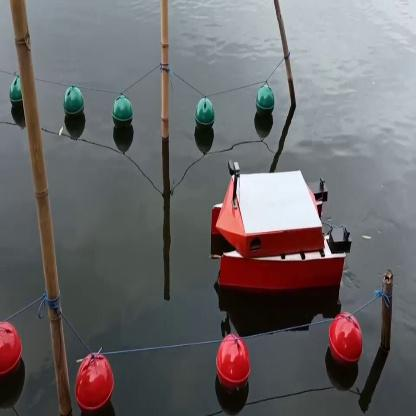green_buoy: (109, 90, 134, 132), (192, 92, 216, 134), (58, 87, 82, 122), (256, 85, 274, 115), (10, 76, 22, 112)
red_buoy: (76, 351, 113, 412), (218, 333, 252, 398), (328, 316, 363, 366), (0, 326, 21, 374)
